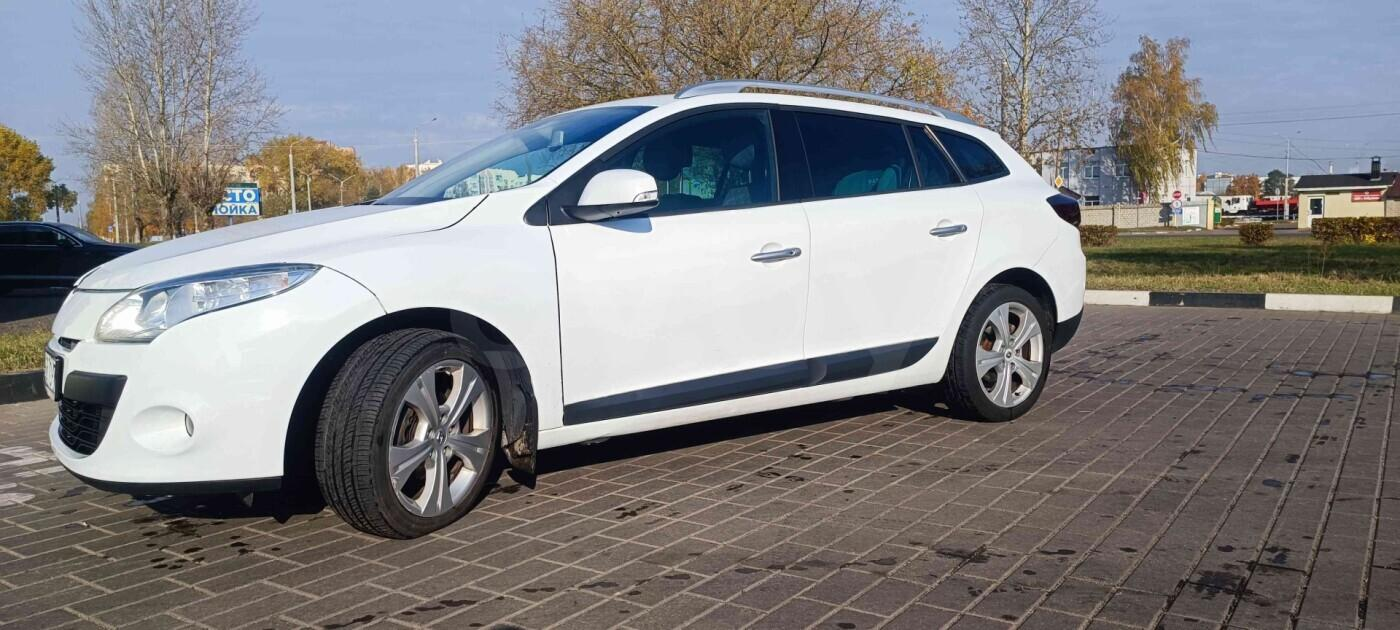Megane_2008-2014: (40, 79, 1089, 535)
